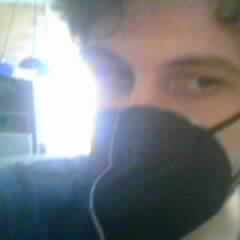with_mask: (81, 1, 240, 238)
